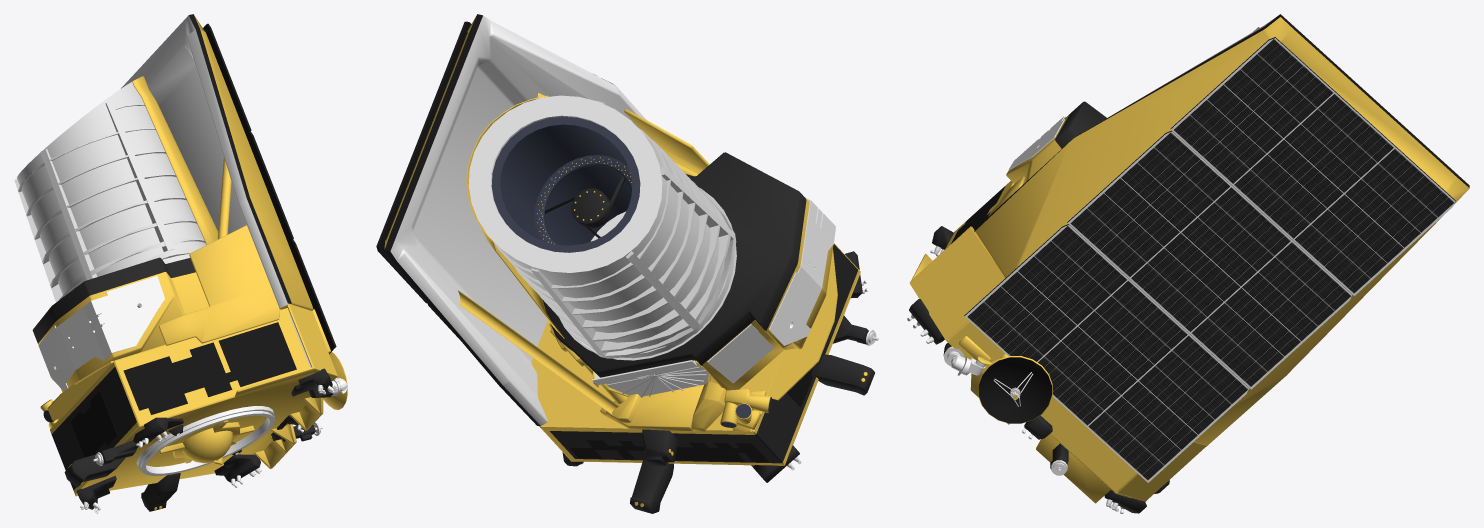
The model's file is euclid.glb.
3 views of the same model, side by side, from view 1: azimuth 30°, elevation 25°; view 2: azimuth 150°, elevation 25°; view 3: azimuth 270°, elevation 25° (orthographic). The views are drawn at different scales.
Visible parts, largest first — view 1: Cylinder, Cube.028, Cube.005, Cube.008, Plane.002, Cube.012, Cube.001, Cube.025, Cylinder.020, Cube.027, Cylinder.014, Cylinder.018 (+12 smaller); view 2: Cylinder, Cube.028, Cube.001, Cube.005, Cylinder.020, Cube.012, Cube.009, Cube.026, Cube.006, Cylinder.010, Cube.016, Cube.002 (+12 smaller); view 3: Cube.019, Cube.020, Cube.021, Cube.027, Cube.005, Cylinder.025, Cylinder.020, Cube.001, Cube.040, Cube.026, Cube.012.
Boxes of the visible parts, x1,y1,x2,y2 form: Cylinder: (14, 82, 206, 302); Cube.028: (121, 15, 287, 308); Cube.005: (50, 304, 337, 494); Cube.008: (158, 225, 279, 345); Plane.002: (123, 322, 296, 414); Cube.012: (38, 276, 164, 391); Cube.001: (32, 257, 209, 392); Cube.025: (75, 367, 337, 496); Cylinder.020: (64, 368, 337, 513); Cube.027: (194, 15, 313, 310); Cylinder.014: (132, 76, 218, 244); Cylinder.018: (136, 406, 275, 475); Cylinder: (468, 95, 736, 360); Cube.028: (390, 15, 646, 425); Cube.001: (543, 152, 833, 390); Cube.005: (531, 158, 859, 465); Cylinder.020: (562, 251, 874, 513); Cube.012: (769, 197, 835, 345); Cube.009: (767, 250, 837, 400); Cube.026: (384, 14, 613, 426); Cube.006: (600, 385, 703, 430); Cylinder.010: (458, 93, 698, 414); Cube.016: (569, 439, 769, 462); Cube.002: (592, 360, 708, 396); Cube.019: (1170, 37, 1455, 295); Cube.020: (1067, 130, 1352, 389); Cube.021: (964, 224, 1249, 482); Cube.027: (975, 17, 1469, 445); Cube.005: (909, 181, 1206, 501); Cylinder.025: (978, 356, 1052, 423); Cylinder.020: (907, 226, 1169, 513); Cube.001: (1006, 101, 1106, 183); Cube.040: (970, 372, 1110, 503); Cube.026: (974, 14, 1469, 446); Cube.012: (1008, 116, 1065, 170).
Bounding box in the file's own units: 57.67 × 89.17 × 86.23.
12 materials, 1 textured.
